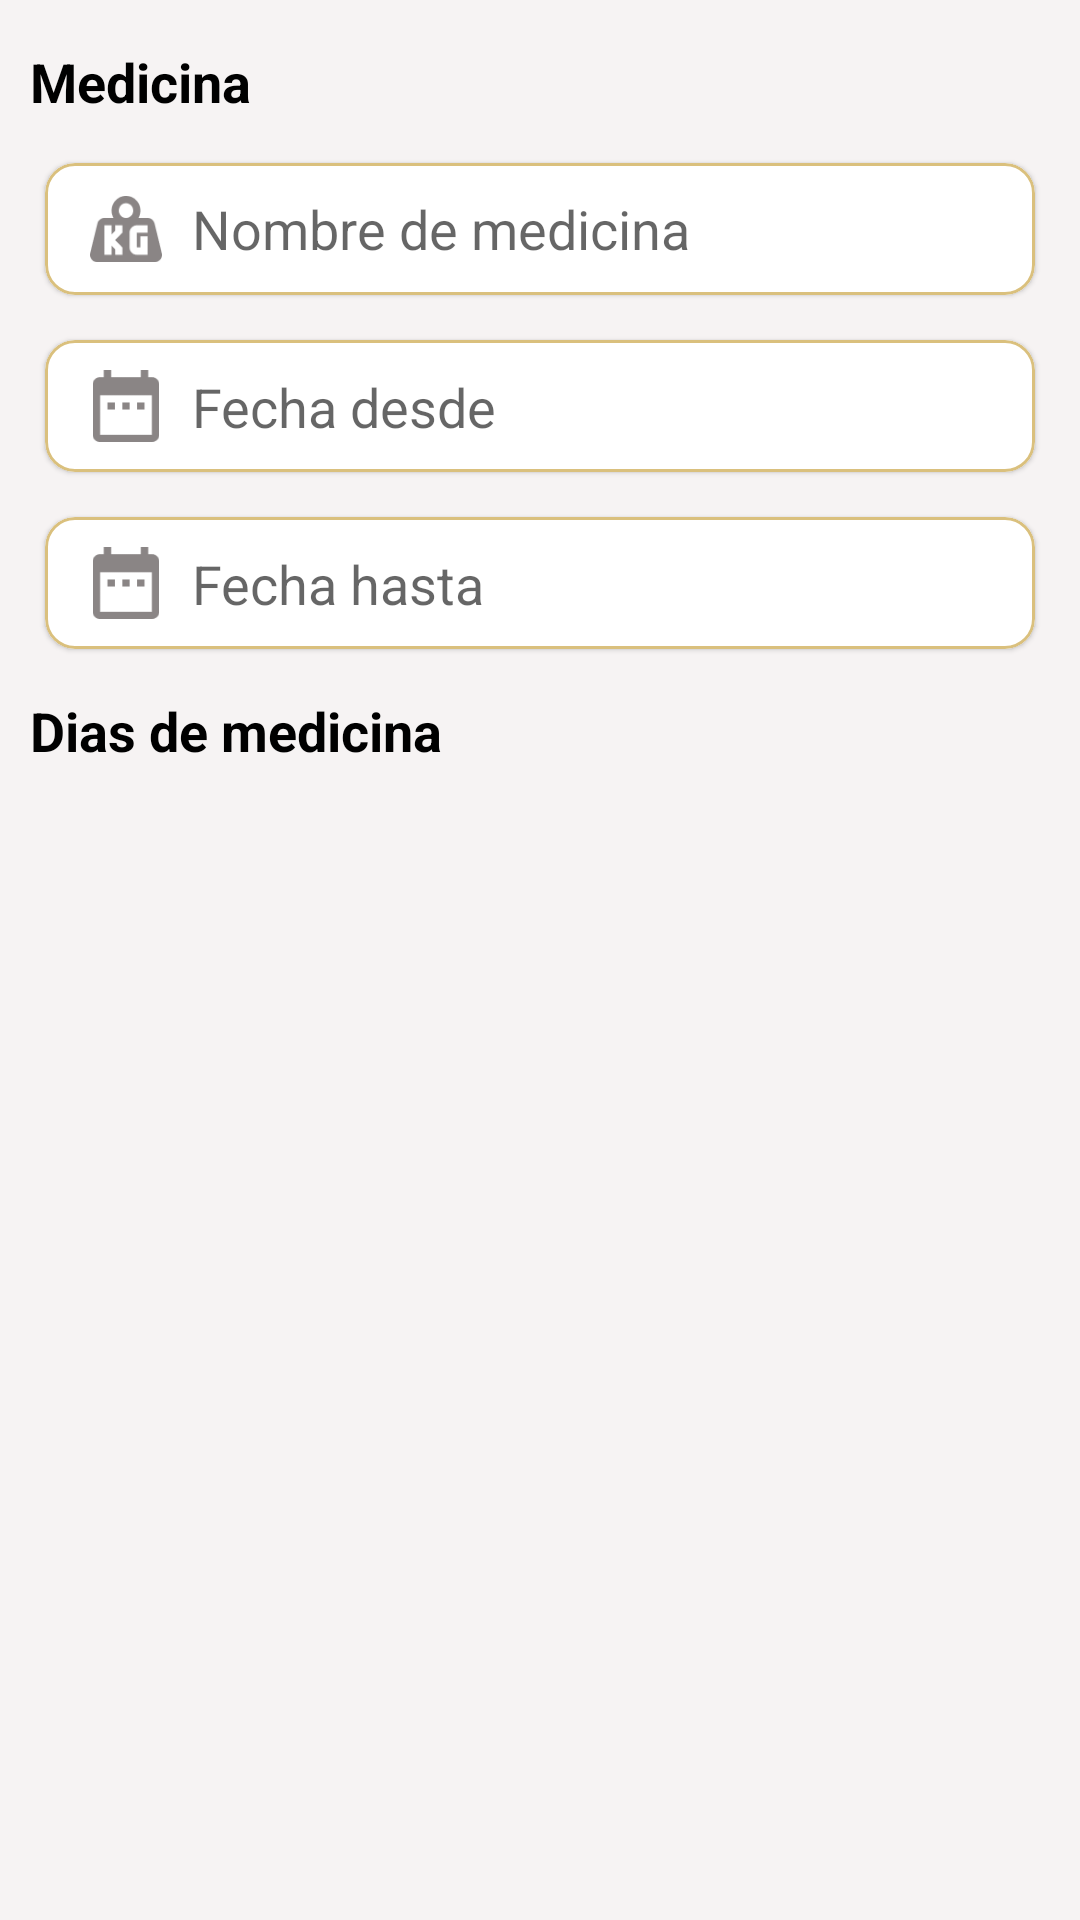

Icon bounding boxes for this 1080px x 1920px phone screenshot, format (x1, y1, x2, y2):
date: (93, 370, 159, 442), (93, 547, 159, 619)
weight: (90, 196, 162, 262)
